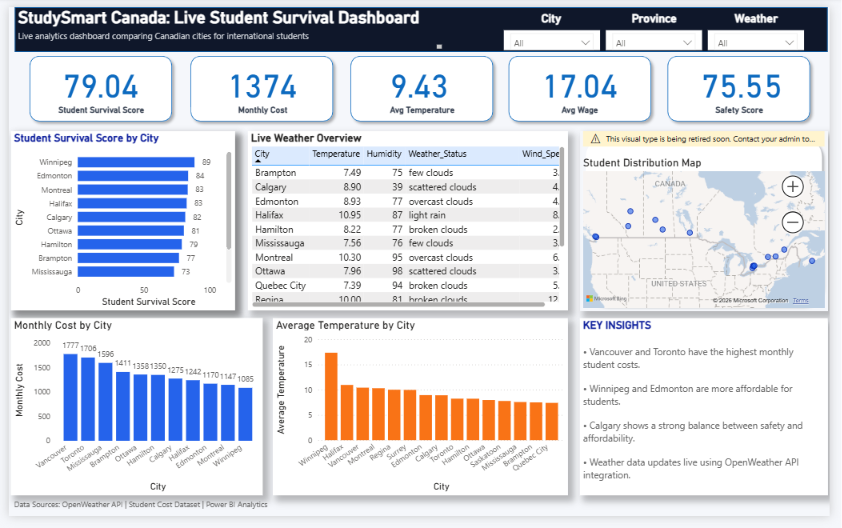

This screenshot's page, from the dashboard's own definition file:
{"tool":"powerbi","page":{"name":"Overview","canvas":[1283,795],"ordinal":0},"visuals":[{"type":"shape","box":[892.2,485.9,387.5,276.6],"z":0},{"type":"shape","box":[412.5,485.9,460.9,276.6],"z":1000},{"type":"shape","box":[3.1,484.4,393.8,278.1],"z":2000},{"type":"shape","box":[892.2,193.8,387.5,281.2],"z":3000},{"type":"shape","box":[372.9,194.3,500,280],"z":4000},{"type":"shape","box":[2.9,194.3,350,280],"z":5000},{"type":"shape","box":[10,0,1270,70],"z":6000},{"type":"textbox","title":"StudySmart Canada: Live Student Survival Dashboard","box":[9.6,0,672.4,70],"z":7000},{"type":"slicer","fields":{"Values":["city_student_data.City"]},"box":[772.9,35.7,150,31.4],"z":8000},{"type":"textbox","title":"City","box":[762.9,0,170,32.9],"z":9000},{"type":"slicer","fields":{"Values":["city_student_data.Province"]},"box":[932.9,35.7,150,31.4],"z":10000},{"type":"textbox","title":"Province","box":[922.9,0,170,32.9],"z":11000},{"type":"slicer","fields":{"Values":["live_weather.Weather_Status"]},"box":[1092.9,35.7,150,31.4],"z":12000},{"type":"textbox","title":"Weather","box":[1082.9,0,170,32.9],"z":13000},{"type":"shape","box":[23.4,67.2,240.6,120.3],"z":14000},{"type":"shape","box":[275,67.2,240.6,120.3],"z":15000},{"type":"shape","box":[525,67.2,240.6,120.3],"z":16000},{"type":"shape","box":[771.9,67.2,240.6,120.3],"z":17000},{"type":"shape","box":[1020.3,67.2,240.6,120.3],"z":18000},{"type":"card","fields":{"Values":["city_student_data.Student Survival Score"]},"box":[65.6,90.6,156.2,62.5],"z":19000},{"type":"card","fields":{"Values":["city_student_data.Monthly Cost"]},"box":[317.2,90.6,157.8,62.5],"z":20000},{"type":"card","fields":{"Values":["Avg(live_weather.Temperature)"]},"box":[562.5,90.6,157.8,62.5],"z":21000},{"type":"card","fields":{"Values":["Avg(city_student_data.Average_Wage)"]},"box":[814.1,90.6,156.2,62.5],"z":22000},{"type":"card","fields":{"Values":["Avg(city_student_data.Safety_Score)"]},"box":[1067.2,90.6,156.2,62.5],"z":23000},{"type":"textbox","title":"Student Survival Score","box":[46.9,153.1,195.3,21.9],"z":24000},{"type":"textbox","title":"Monthly Cost","box":[298.4,153.1,196.9,21.9],"z":25000},{"type":"textbox","title":"Avg Temperature","box":[548.4,153.1,195.3,21.9],"z":26000},{"type":"textbox","title":"Avg Wage","box":[793.8,153.1,196.9,21.9],"z":27000},{"type":"textbox","title":"Safety Score","box":[1043.8,153.1,195.3,21.9],"z":28000},{"type":"clusteredBarChart","title":"Student Survival Score by City","fields":{"Category":["city_student_data.City"],"Y":["city_student_data.Student Survival Score"]},"box":[2.9,194.3,350,280],"z":29000},{"type":"tableEx","title":"Live Weather Overview","fields":{"Values":["live_weather.City","Sum(live_weather.Temperature)","Sum(live_weather.Humidity)","live_weather.Weather_Status","Sum(live_weather.Wind_Speed)"]},"box":[372.9,194.3,500,280],"z":30000},{"type":"map","title":"Student Distribution Map","fields":{"Category":["live_weather.City"],"Y":["Avg(live_weather.Latitude)"],"X":["Avg(live_weather.Longitude)"]},"box":[892.2,193.8,387.5,281.2],"z":31000},{"type":"clusteredColumnChart","title":"Monthly Cost by City","fields":{"Category":["city_student_data.City"],"Y":["city_student_data.Monthly Cost"]},"box":[3.1,485.9,393.8,276.6],"z":32000},{"type":"clusteredColumnChart","title":"Average Temperature by City","fields":{"Category":["live_weather.City"],"Y":["live_weather.Average Temperature"]},"box":[412.5,485.9,460.9,276.6],"z":33000},{"type":"textbox","title":"KEY INSIGHTS","box":[892.2,485.9,387.5,276.6],"z":34000},{"type":"textbox","box":[2.9,762.9,727.1,35.7],"z":35000}]}

Visuals, with their boxes in screenshot pixels (x1, y1, x2, y2), scaled from the page's 1283x795 canvas onto the 842x528 screenshot:
shape: {"x1": 586, "y1": 323, "x2": 840, "y2": 506}
shape: {"x1": 271, "y1": 323, "x2": 573, "y2": 506}
shape: {"x1": 2, "y1": 322, "x2": 260, "y2": 506}
shape: {"x1": 586, "y1": 129, "x2": 840, "y2": 315}
shape: {"x1": 245, "y1": 129, "x2": 573, "y2": 315}
shape: {"x1": 2, "y1": 129, "x2": 232, "y2": 315}
shape: {"x1": 7, "y1": 0, "x2": 840, "y2": 46}
"StudySmart Canada: Live Student Survival Dashboard" textbox: {"x1": 6, "y1": 0, "x2": 448, "y2": 46}
slicer - city_student_data.City: {"x1": 507, "y1": 24, "x2": 606, "y2": 45}
"City" textbox: {"x1": 501, "y1": 0, "x2": 612, "y2": 22}
slicer - city_student_data.Province: {"x1": 612, "y1": 24, "x2": 711, "y2": 45}
"Province" textbox: {"x1": 606, "y1": 0, "x2": 717, "y2": 22}
slicer - live_weather.Weather_Status: {"x1": 717, "y1": 24, "x2": 816, "y2": 45}
"Weather" textbox: {"x1": 711, "y1": 0, "x2": 822, "y2": 22}
shape: {"x1": 15, "y1": 45, "x2": 173, "y2": 125}
shape: {"x1": 180, "y1": 45, "x2": 338, "y2": 125}
shape: {"x1": 345, "y1": 45, "x2": 502, "y2": 125}
shape: {"x1": 507, "y1": 45, "x2": 664, "y2": 125}
shape: {"x1": 670, "y1": 45, "x2": 827, "y2": 125}
card - city_student_data.Student Survival Score: {"x1": 43, "y1": 60, "x2": 146, "y2": 102}
card - city_student_data.Monthly Cost: {"x1": 208, "y1": 60, "x2": 312, "y2": 102}
card - Avg(live_weather.Temperature): {"x1": 369, "y1": 60, "x2": 473, "y2": 102}
card - Avg(city_student_data.Average_Wage): {"x1": 534, "y1": 60, "x2": 637, "y2": 102}
card - Avg(city_student_data.Safety_Score): {"x1": 700, "y1": 60, "x2": 803, "y2": 102}
"Student Survival Score" textbox: {"x1": 31, "y1": 102, "x2": 159, "y2": 116}
"Monthly Cost" textbox: {"x1": 196, "y1": 102, "x2": 325, "y2": 116}
"Avg Temperature" textbox: {"x1": 360, "y1": 102, "x2": 488, "y2": 116}
"Avg Wage" textbox: {"x1": 521, "y1": 102, "x2": 650, "y2": 116}
"Safety Score" textbox: {"x1": 685, "y1": 102, "x2": 813, "y2": 116}
"Student Survival Score by City" clusteredBarChart: {"x1": 2, "y1": 129, "x2": 232, "y2": 315}
"Live Weather Overview" tableEx: {"x1": 245, "y1": 129, "x2": 573, "y2": 315}
"Student Distribution Map" map: {"x1": 586, "y1": 129, "x2": 840, "y2": 315}
"Monthly Cost by City" clusteredColumnChart: {"x1": 2, "y1": 323, "x2": 260, "y2": 506}
"Average Temperature by City" clusteredColumnChart: {"x1": 271, "y1": 323, "x2": 573, "y2": 506}
"KEY INSIGHTS" textbox: {"x1": 586, "y1": 323, "x2": 840, "y2": 506}
textbox: {"x1": 2, "y1": 507, "x2": 479, "y2": 527}
